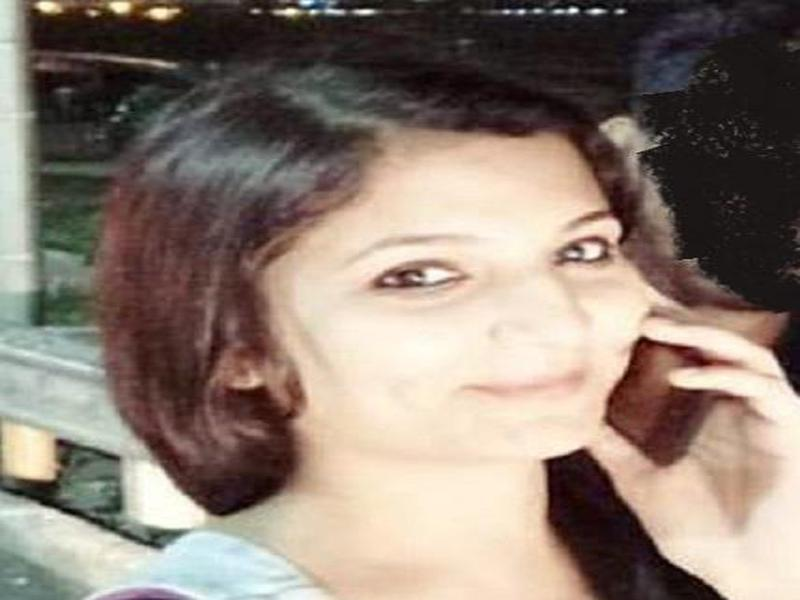without_mask: (257, 129, 649, 465)
